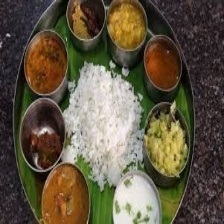rice: (59, 57, 146, 191)
